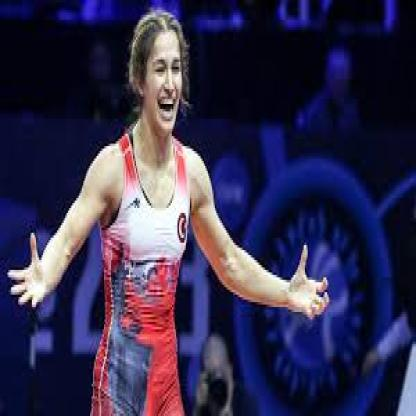person: (121, 15, 197, 149)
